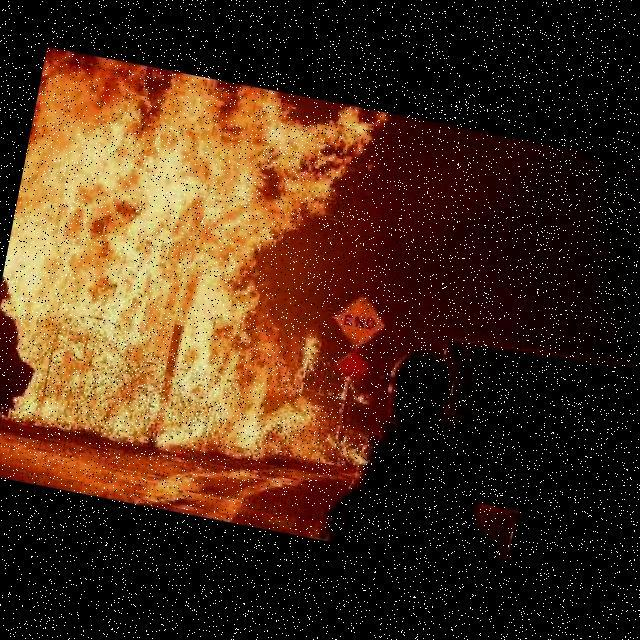Fire: (0, 41, 388, 470)
